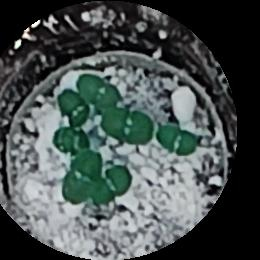Basil: (58, 148, 103, 198), (93, 160, 137, 203), (78, 70, 122, 112), (105, 109, 151, 145), (50, 123, 91, 157), (164, 122, 196, 156), (58, 91, 88, 127)
